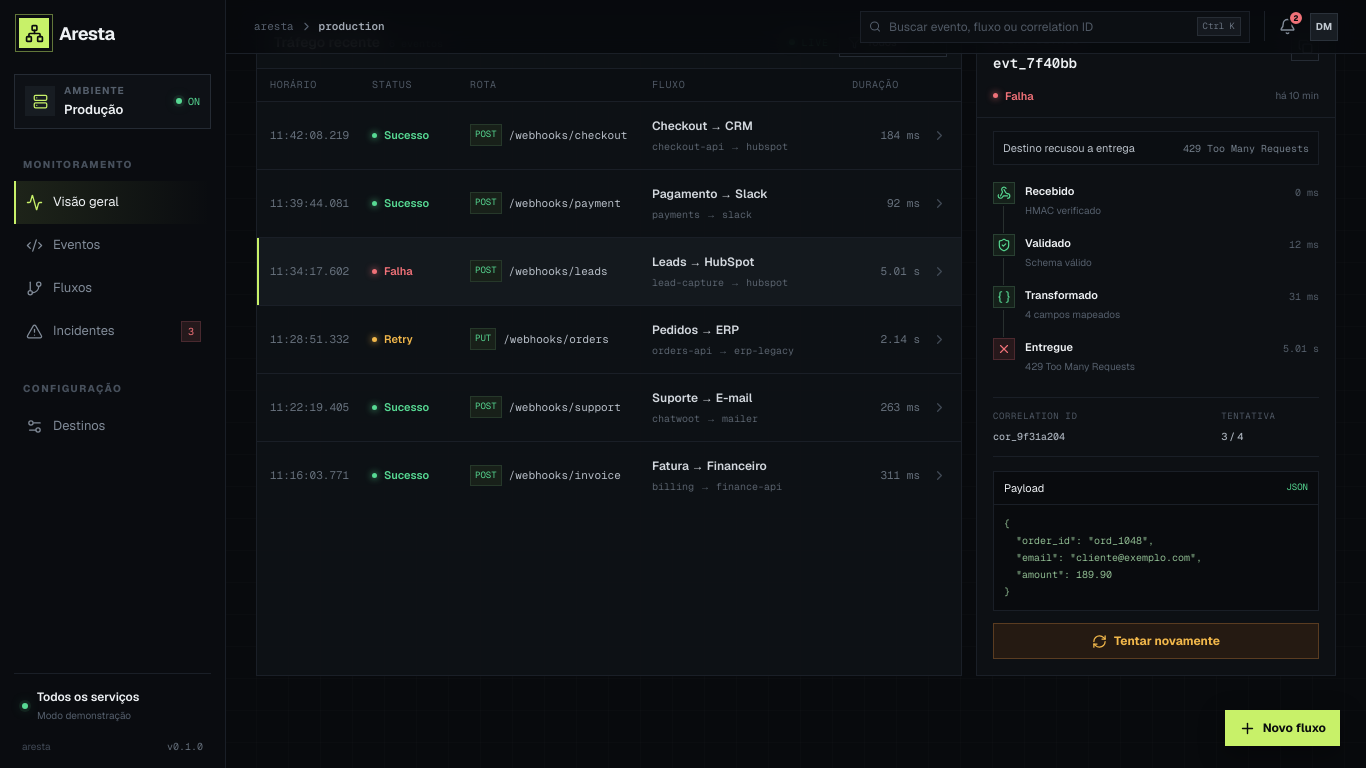
it: ArestaDashboard › recupera uma falha com retry
The image size is (1366, 768).
(page scrolled)
Click the button "Tentar novamente".
click(1156, 641)  # box [993, 623, 1319, 659]
(page scrolled)
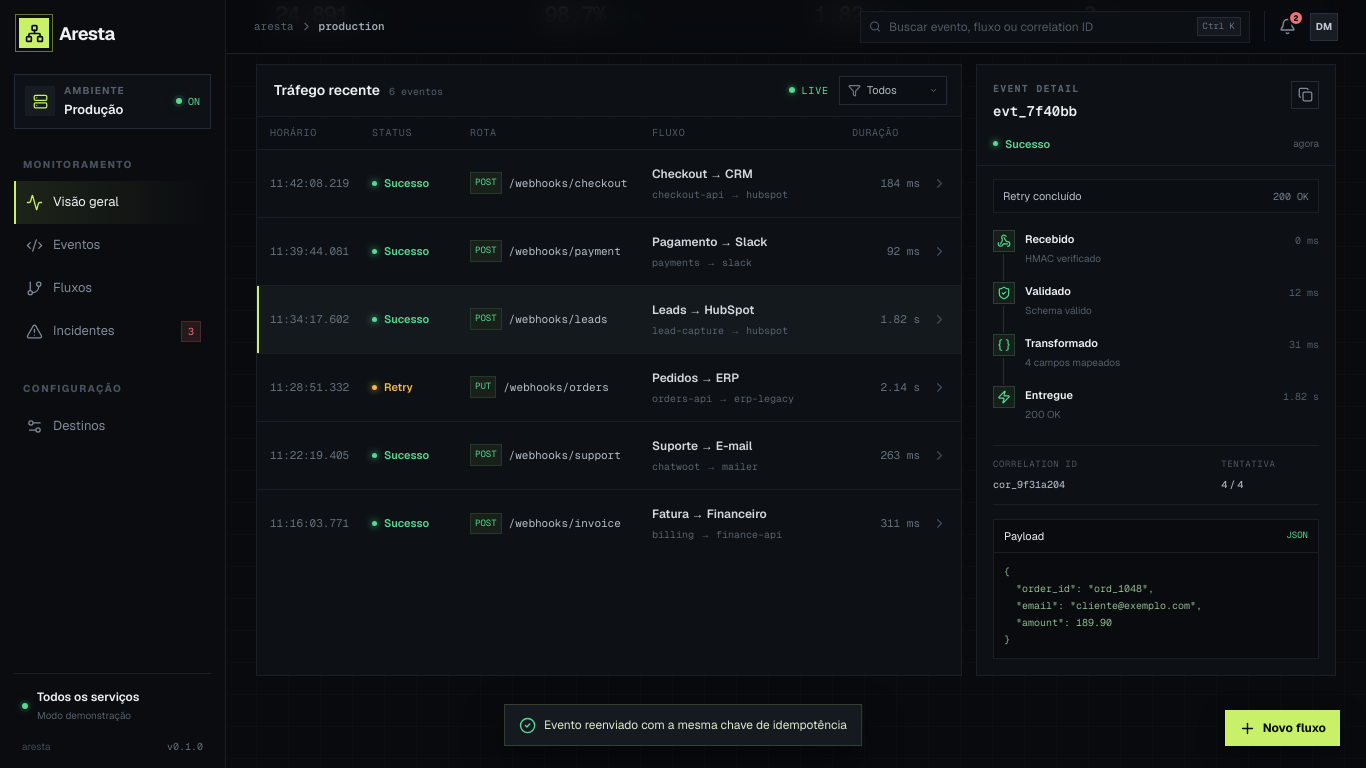
Expected: the text "Retry concluído" is shown, [1003, 188, 1082, 204]
